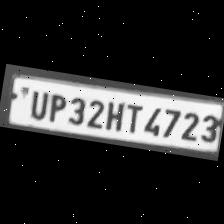2: (176, 106, 202, 142), (82, 94, 108, 129)
3: (196, 109, 222, 144), (64, 91, 89, 126)
4: (139, 100, 166, 136)
7: (158, 104, 182, 138)
H: (101, 96, 126, 132)
P: (44, 88, 68, 122)
T: (120, 97, 144, 133)
U: (24, 85, 50, 119)
